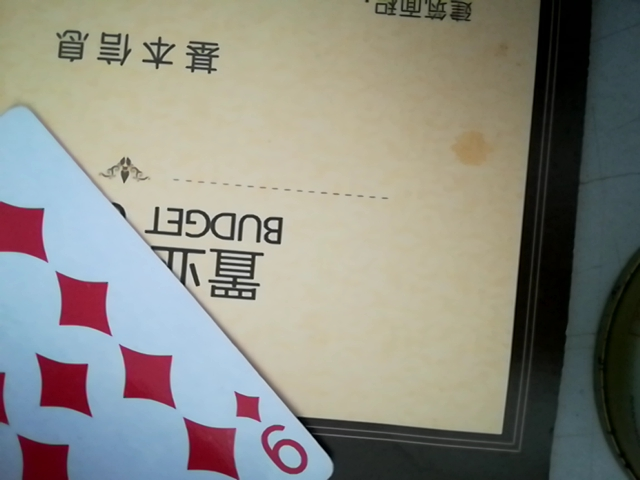fk 9: (0, 77, 342, 480)
